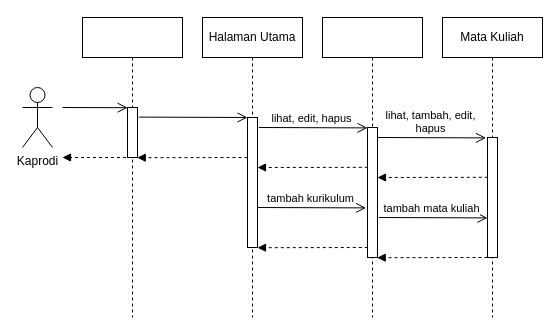
Image size: 560x335. Some labels were removed from this diagram. Each missing label, with the centre of its shape:
"Kurikulum" goes at (x=372, y=167).
"Login" goes at (x=132, y=167).
